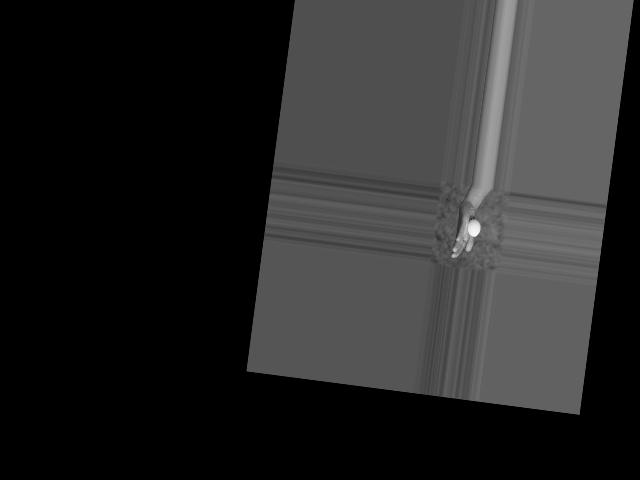egg: (466, 218, 481, 237)
